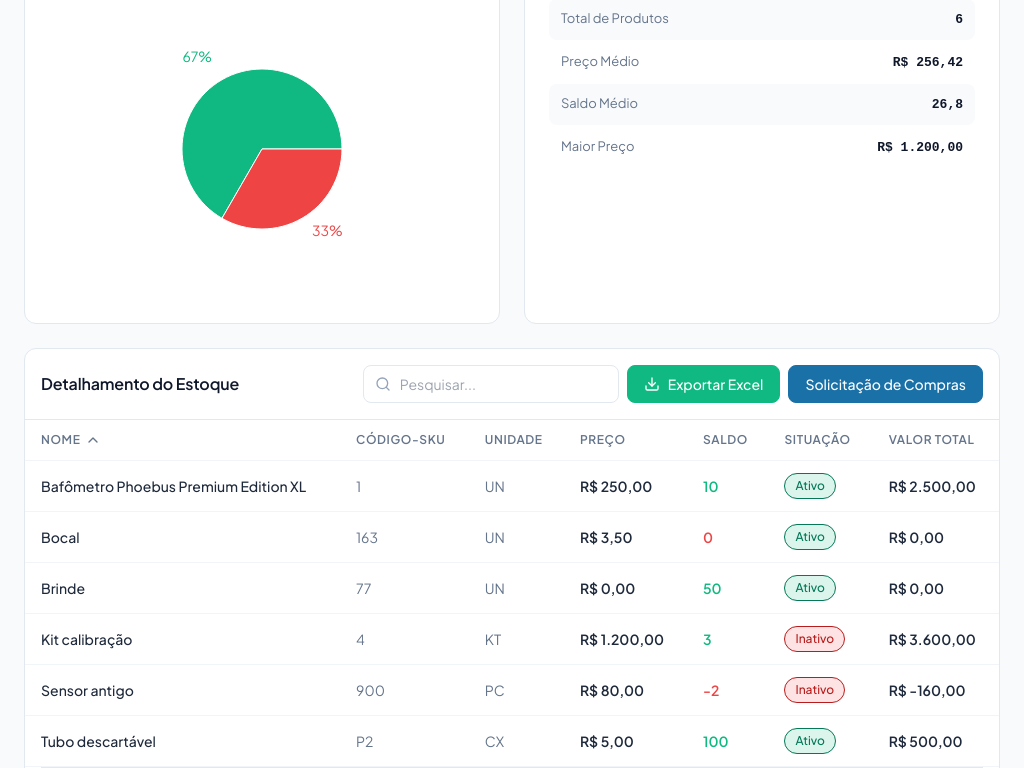
Test: solicitacao de compras aberta pela tela de Estoque › cancelar descarta o que foi digitado: reabre sem quantidade nenhuma
(page scrolled)
Click the button "Solicitação de Compras" at {"x": 886, "y": 384}, box [788,365,983,403]
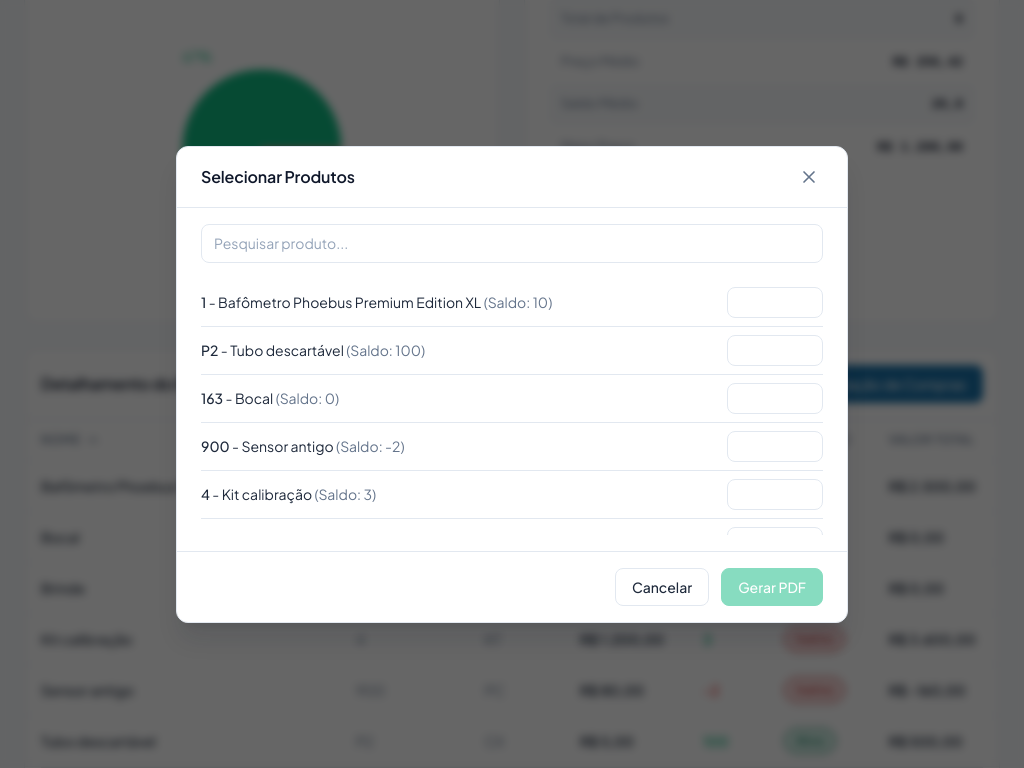
Type "5" into the number field named "Quantidade de Bocal" at {"x": 775, "y": 398}, box [727,382,823,414]
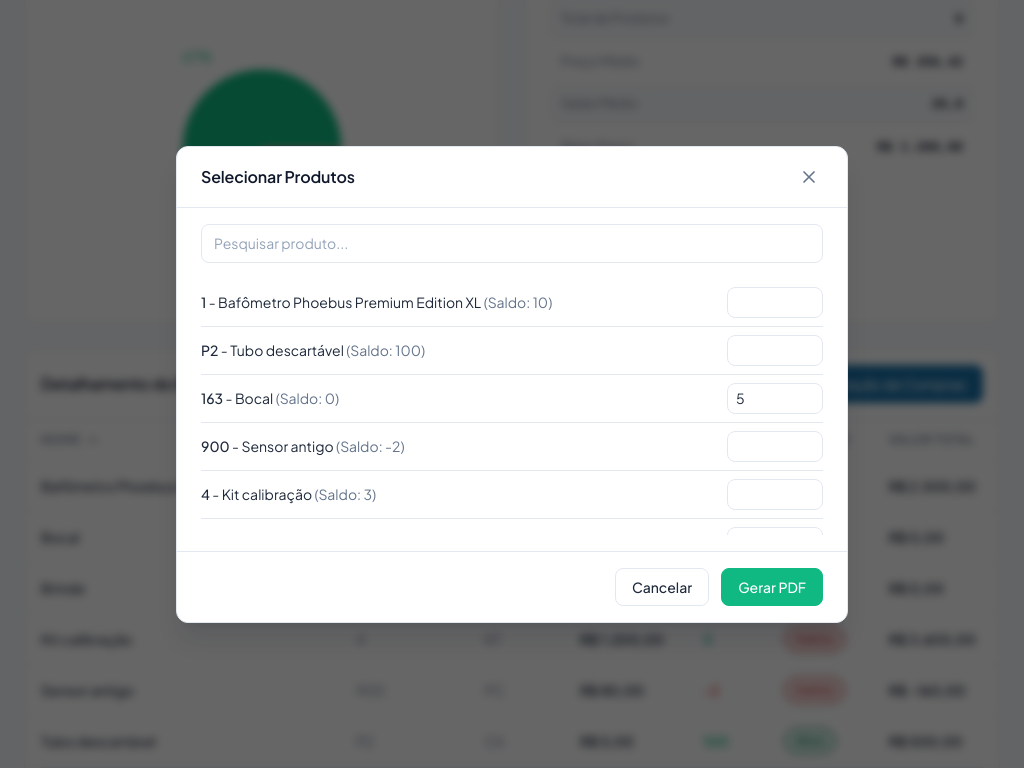
Click the button "Cancelar" at {"x": 662, "y": 586}, box [615,568,709,606]
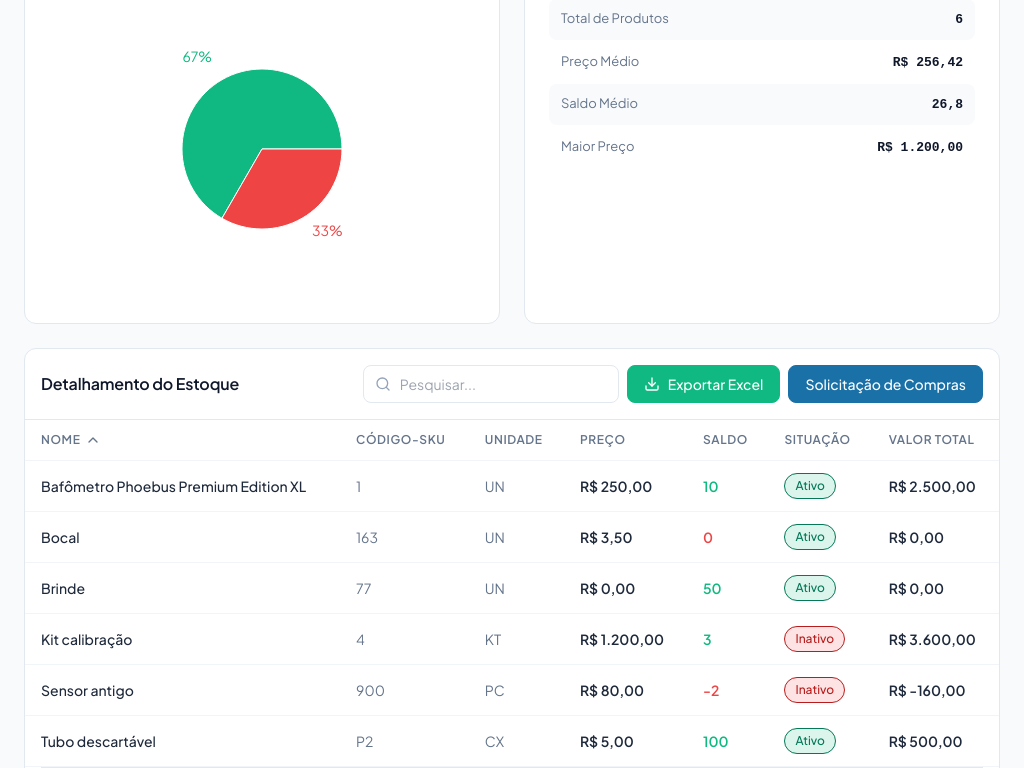
Now the dialog is gone
Click the button "Solicitação de Compras" at {"x": 886, "y": 384}, box [788,365,983,403]
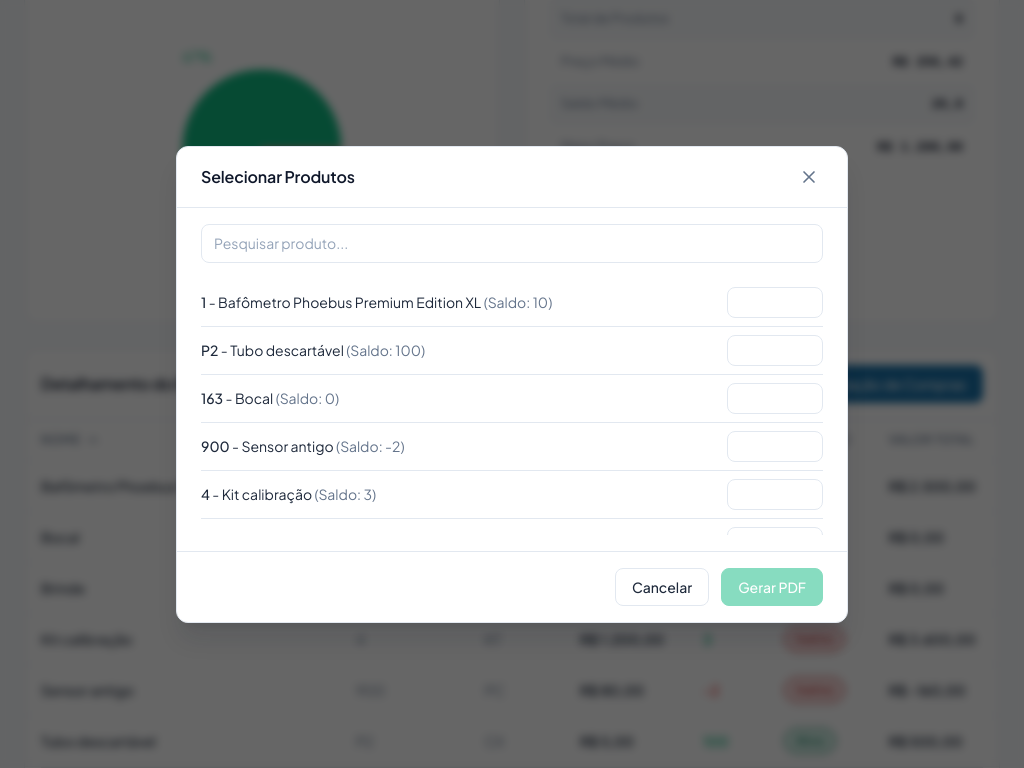
Now the number field named "Quantidade de Bocal" is empty, box [727,382,823,414]
Now the button "Gerar PDF" is disabled, box [721,568,823,606]
